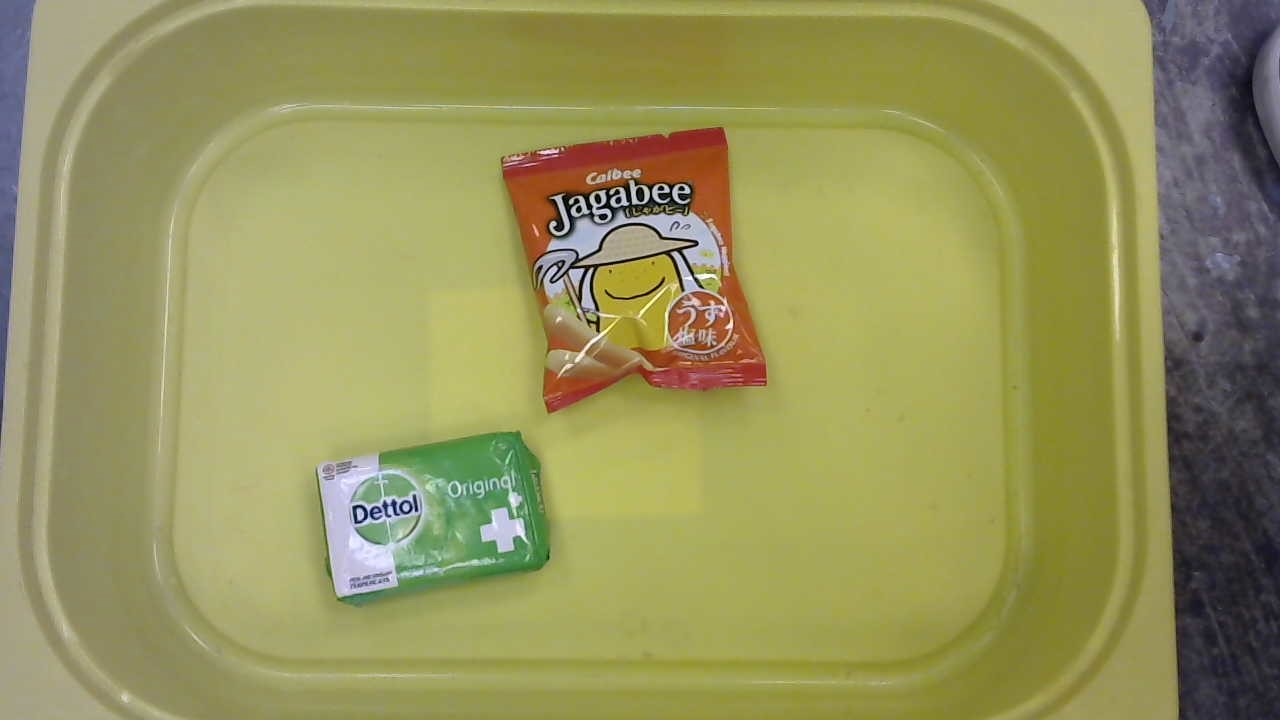Dettol: (305, 430, 555, 610)
JagabeeFarmer: (490, 125, 788, 422)
